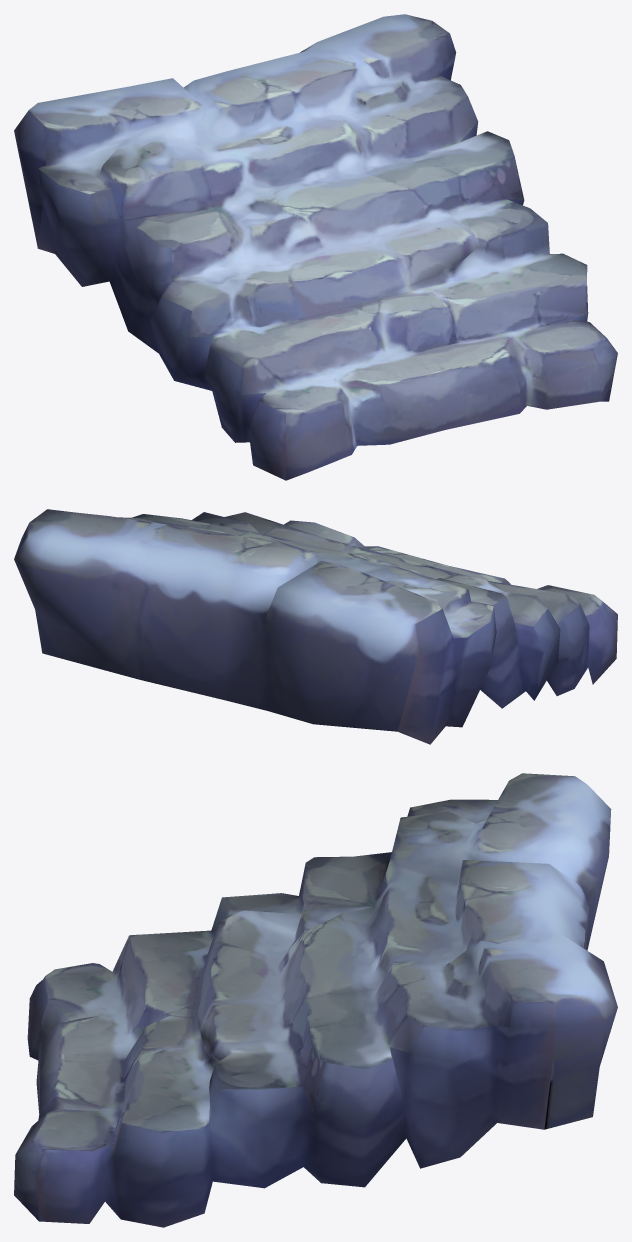
The model's file is Map_10_stair.FBX.
3 renders of one model, top to bottom at view 1: azimuth 30°, elevation 25°; view 2: azimuth 150°, elevation 25°; view 3: azimuth 270°, elevation 25°, orthographic. The views are drawn at different scales.
Visible parts, largest first — view 1: Map_10_stair; view 2: Map_10_stair; view 3: Map_10_stair.
Boxes of the visible parts, x1=… form: Map_10_stair: x1=14, y1=14, x2=617, y2=480; Map_10_stair: x1=14, y1=509, x2=617, y2=744; Map_10_stair: x1=14, y1=773, x2=617, y2=1227.
Bounding box in the file's own units: 187 × 90.99 × 197.
1 material, 1 textured.
